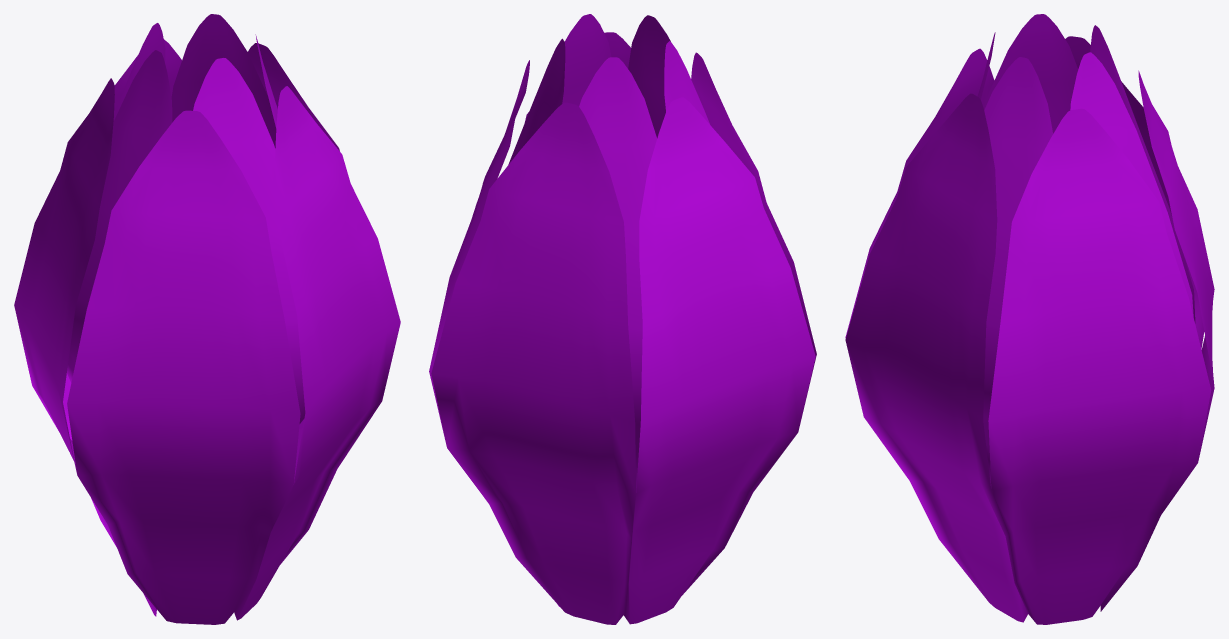
The model's file is FlowerPetal2.fbx.
3 renders of one model, left to right at view 1: azimuth 30°, elevation 25°; view 2: azimuth 150°, elevation 25°; view 3: azimuth 270°, elevation 25°, orthographic.
Visible parts, largest first — view 1: Petal2; view 2: Petal2; view 3: Petal2.
Part boxes in pixels (x1=…): Petal2: x1=14, y1=14, x2=400, y2=624; Petal2: x1=429, y1=14, x2=816, y2=624; Petal2: x1=845, y1=14, x2=1214, y2=624.
Size of the model in its own units: 32.1 by 51.51 by 30.53.
